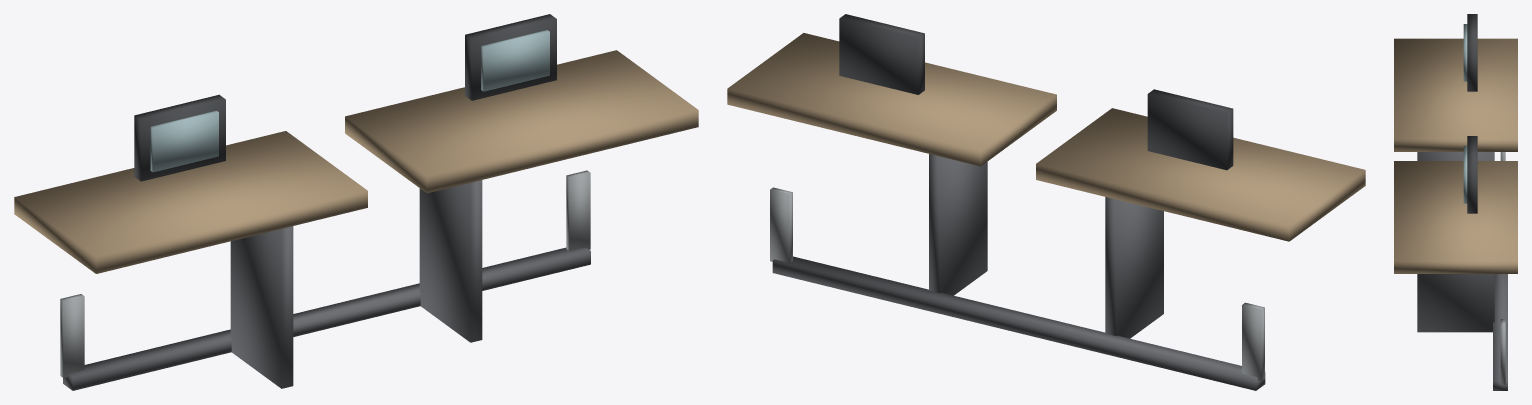
Rendered from newsroom_desk_cluster__reinforced.glb.
3 views of the same model, side by side, from view 1: azimuth 30°, elevation 25°; view 2: azimuth 150°, elevation 25°; view 3: azimuth 270°, elevation 25° (orthographic). The views are drawn at different scales.
Visible parts, largest first — view 1: world; view 2: world; view 3: world.
Boxes of the visible parts, x1,y1,x2,y2 form: world: (14,14,698,390); world: (727,14,1365,390); world: (1394,14,1517,390).
Bounding box in the file's own units: 2.63 × 1.13 × 0.618.
